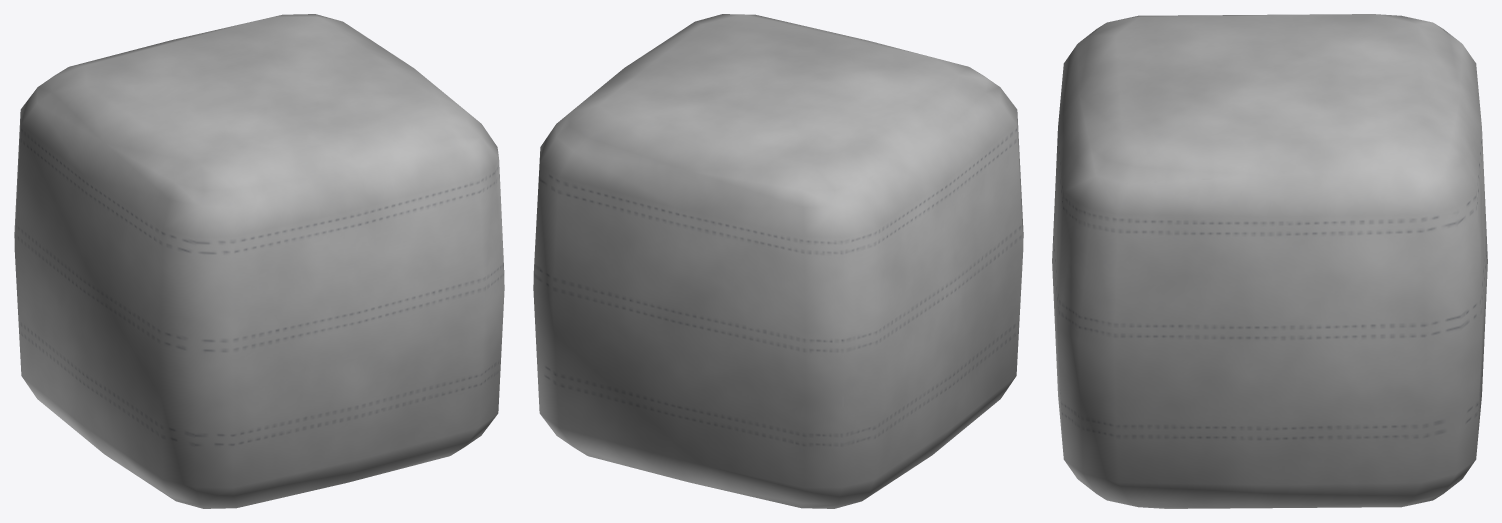
Rendered from RightLowerArm_C1.fbx.
3 views of the same model, side by side, from view 1: azimuth 30°, elevation 25°; view 2: azimuth 150°, elevation 25°; view 3: azimuth 270°, elevation 25° (orthographic). The views are drawn at different scales.
Parts seen in each view (by area): view 1: Civ_SacoOficina_RightLowerArm_C1; view 2: Civ_SacoOficina_RightLowerArm_C1; view 3: Civ_SacoOficina_RightLowerArm_C1.
Part boxes in pixels (bbox=[...]): Civ_SacoOficina_RightLowerArm_C1: bbox=[14, 14, 504, 508]; Civ_SacoOficina_RightLowerArm_C1: bbox=[533, 14, 1023, 508]; Civ_SacoOficina_RightLowerArm_C1: bbox=[1052, 14, 1487, 508].
Bounding box in the file's own units: 1.25 × 1.19 × 1.25.
